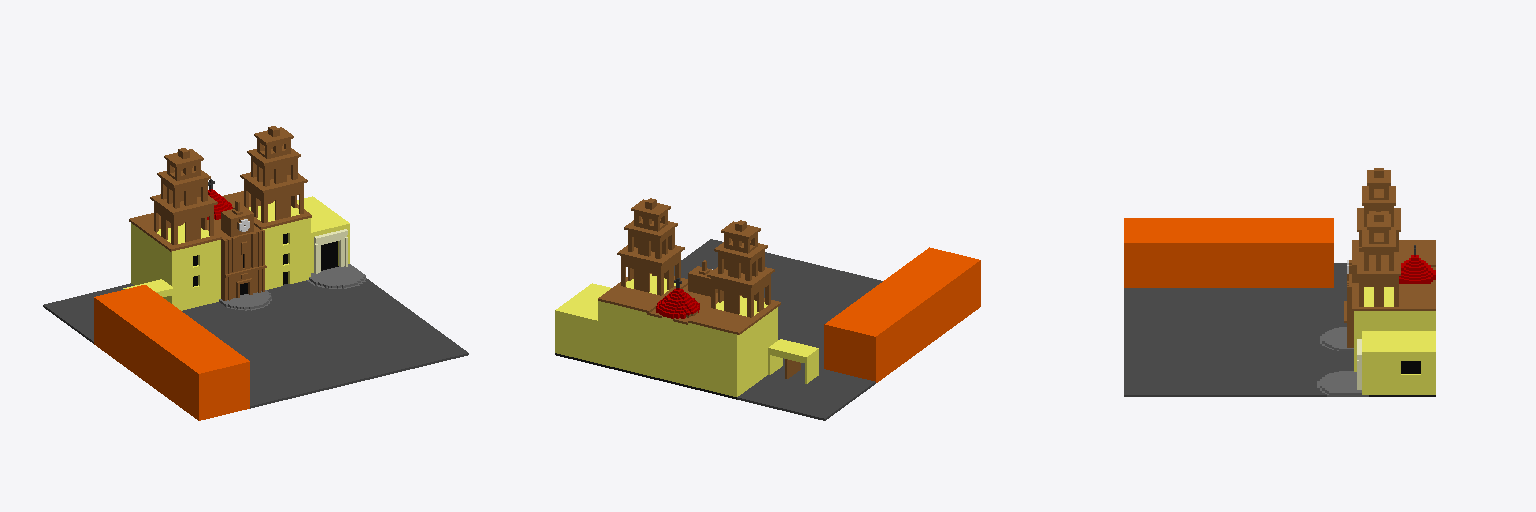
3 renders of one model, left to right at view 1: azimuth 30°, elevation 25°; view 2: azimuth 150°, elevation 25°; view 3: azimuth 270°, elevation 25°, orthographic.
Bounding box in the file's own units: 126 × 67 × 126.
1 materials, 1 textured.